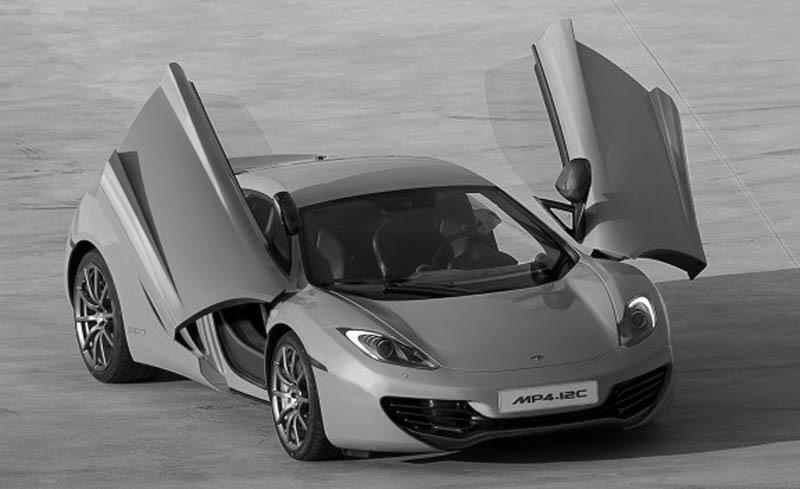car: (63, 19, 708, 464)
